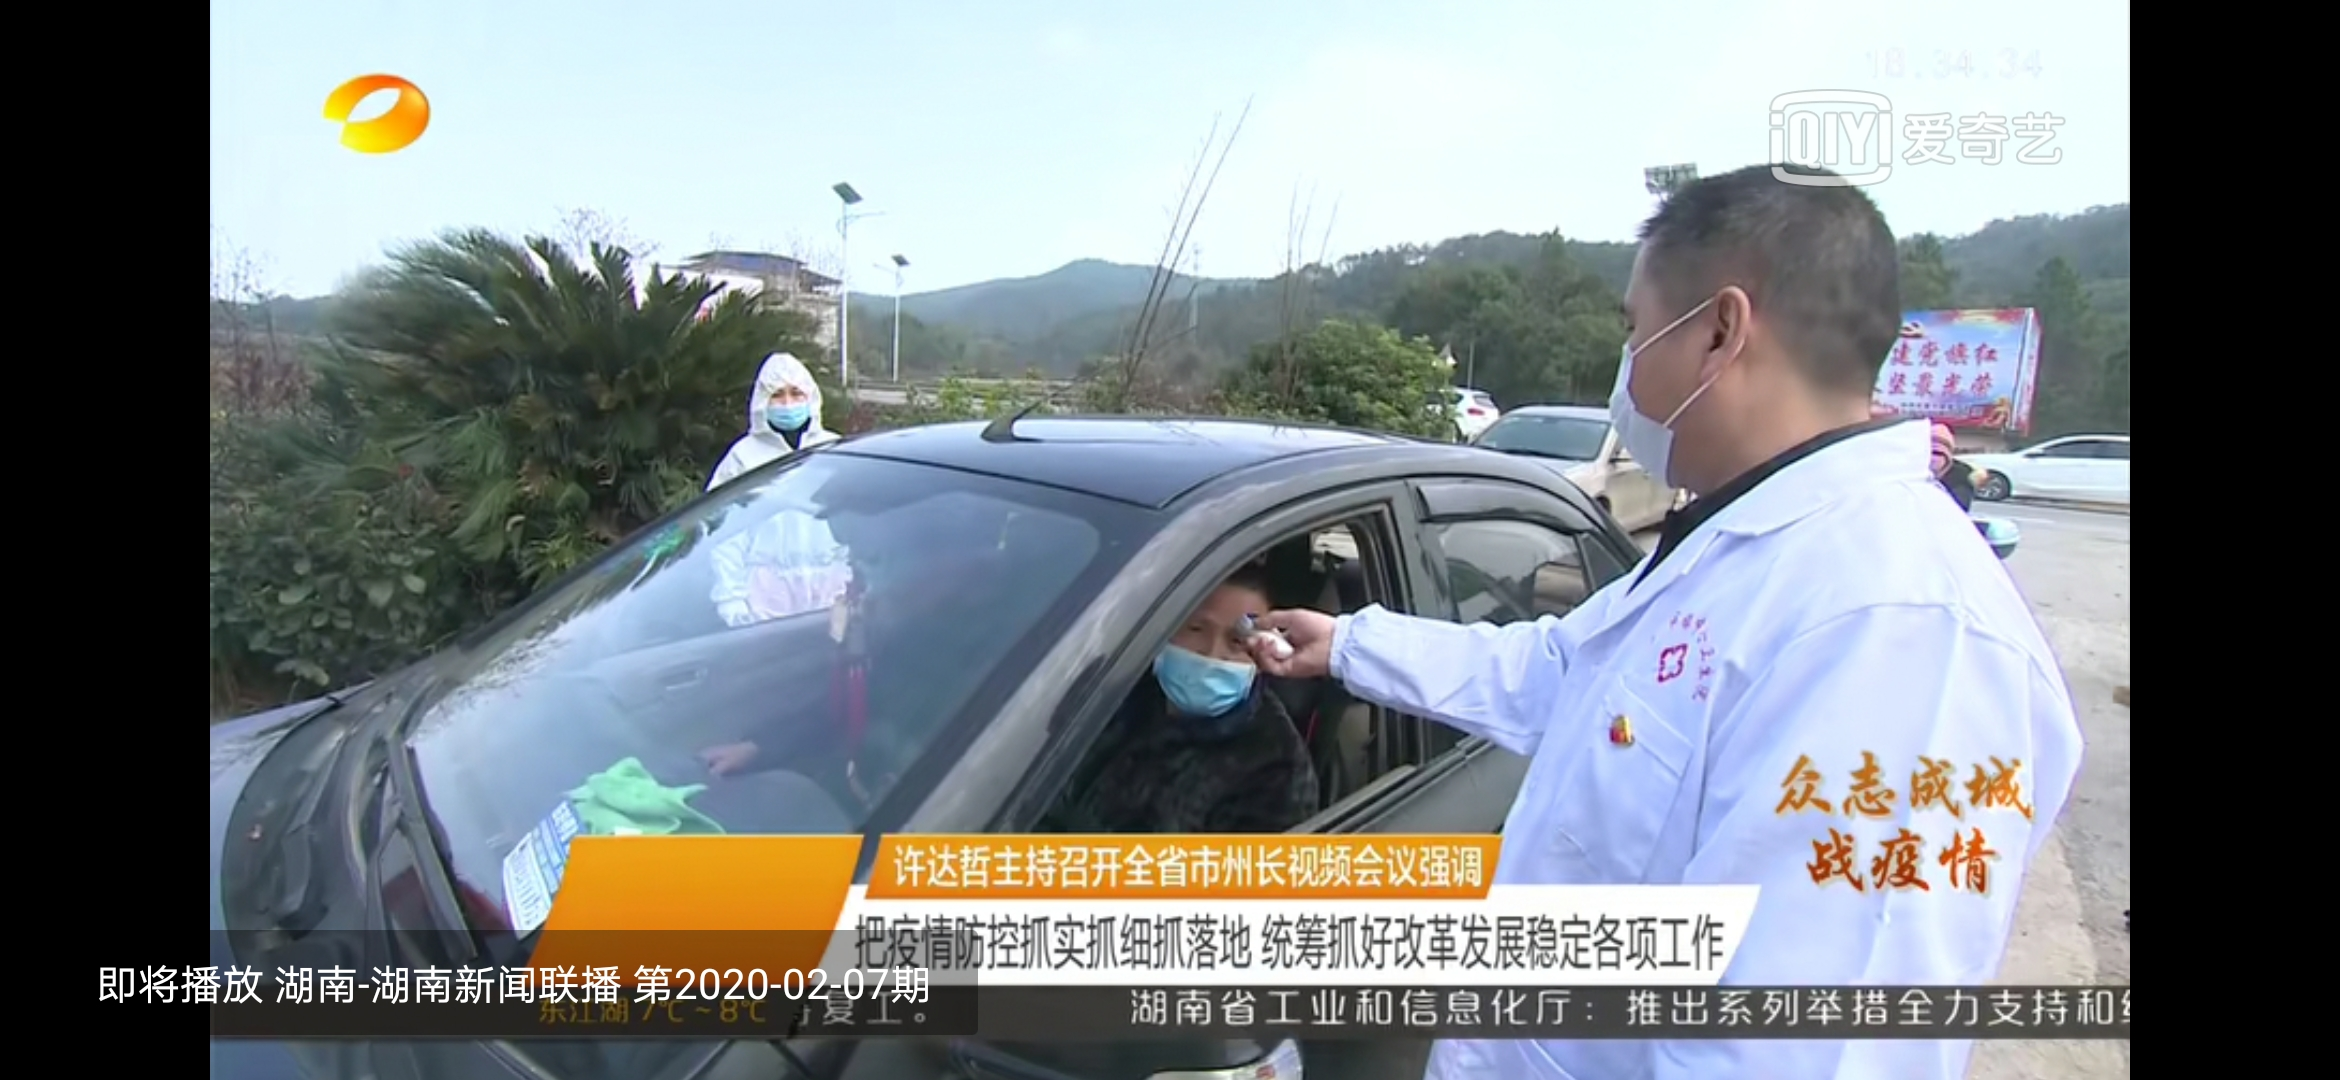correctlyWear: (1604, 264, 1751, 492), (1157, 603, 1260, 713), (763, 377, 813, 434)
